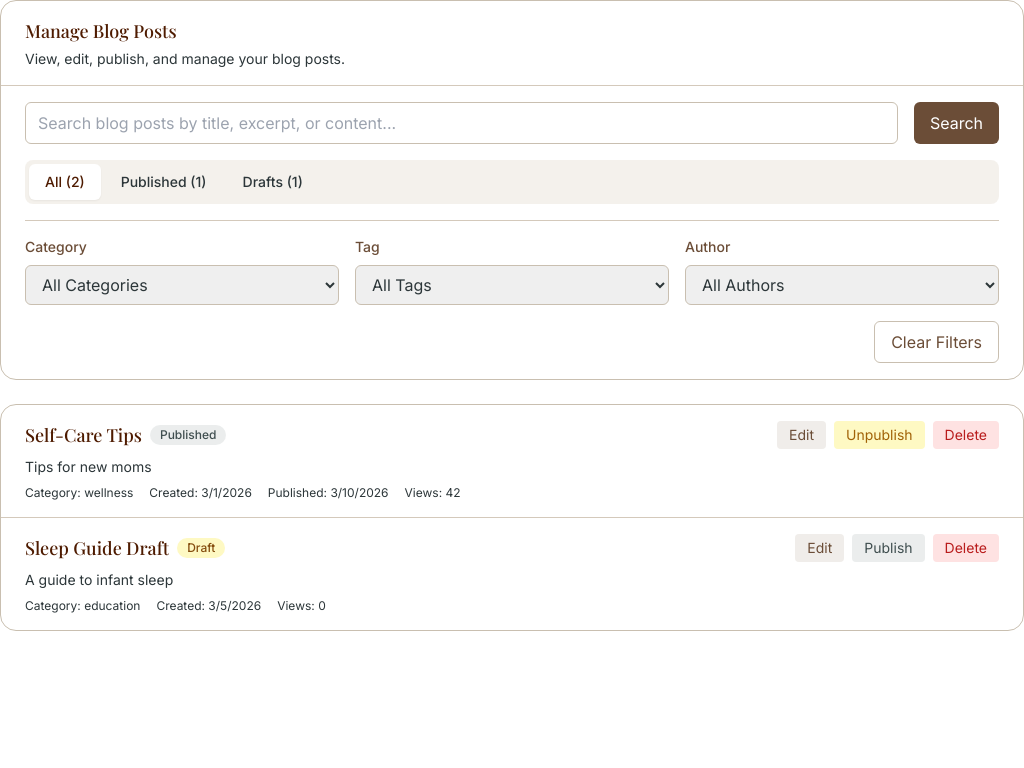
BlogManagement › filters by published tab
Expected: the heading "Self-Care Tips" is shown, 25,421 -> 142,449
Click the button "Published (1)": (164, 182) 105,164 -> 222,200
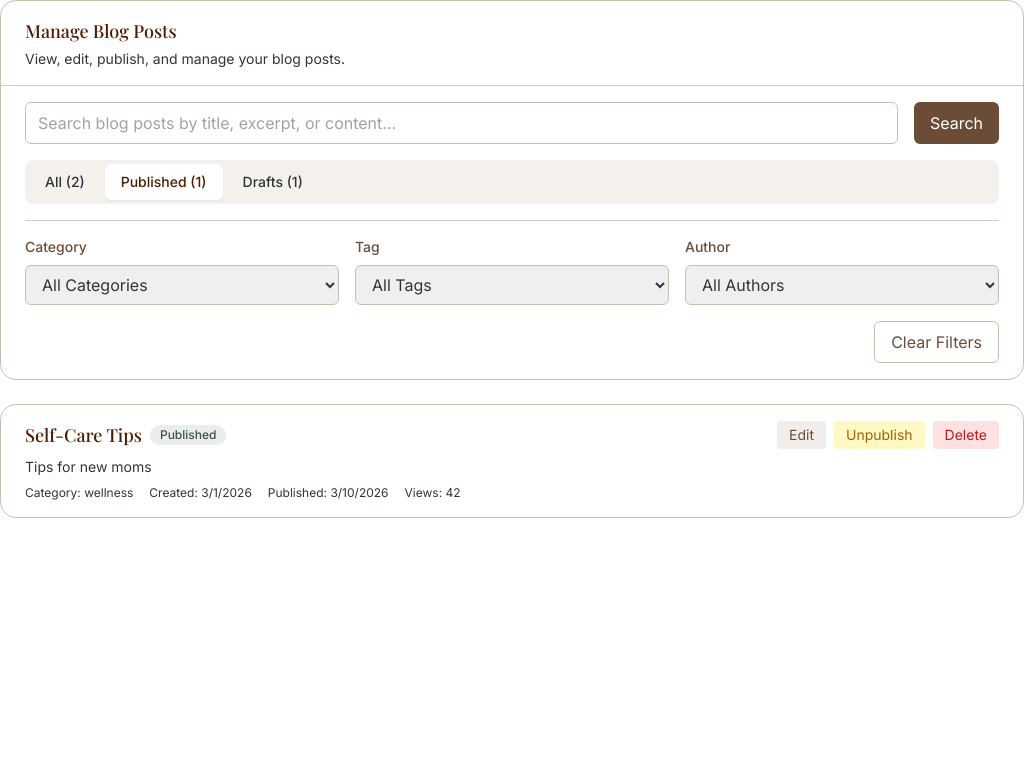
Expected: the heading "Self-Care Tips" is shown, 25,421 -> 142,449
Result: the heading "Sleep Guide Draft" is gone
